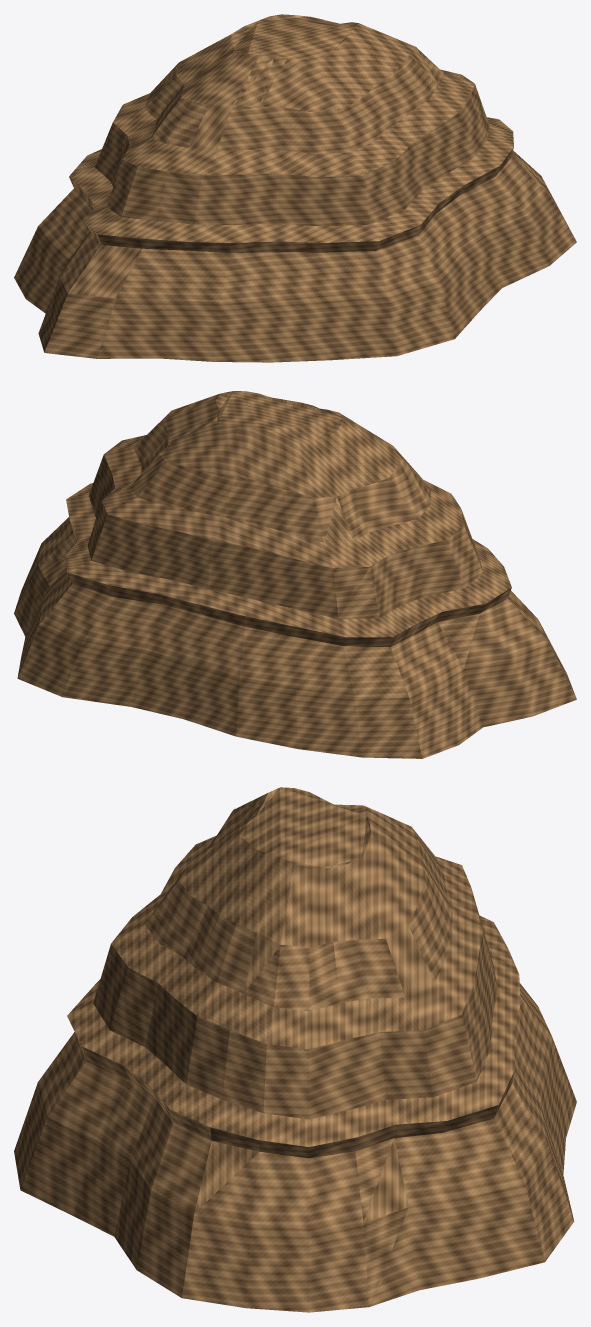
The model's file is 2062_northeast_sandstone_hill.dae.
3 views of the same model, one above another, from view 1: azimuth 30°, elevation 25°; view 2: azimuth 150°, elevation 25°; view 3: azimuth 270°, elevation 25° (orthographic). The views are drawn at different scales.
Parts seen in each view (by area): view 1: Node; view 2: Node; view 3: Node.
Boxes of the visible parts, x1,y1,x2,y2 form: Node: [14, 14, 576, 362]; Node: [14, 391, 576, 758]; Node: [14, 787, 576, 1312].
Bounding box in the file's own units: 19.31 × 13.24 × 8.57.
Materials: 1 (1 with a texture image).
